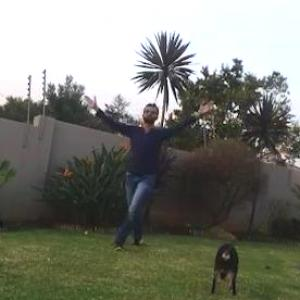takeoff: (96, 98, 222, 237)
